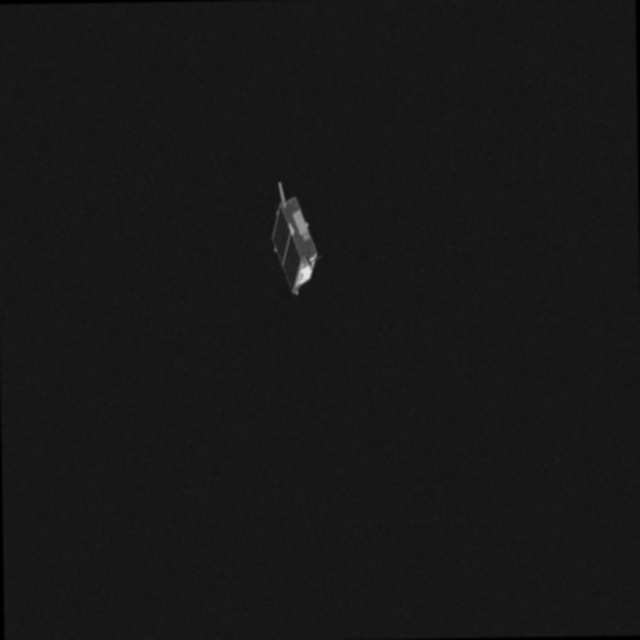medium_debris: (264, 172, 328, 297)
